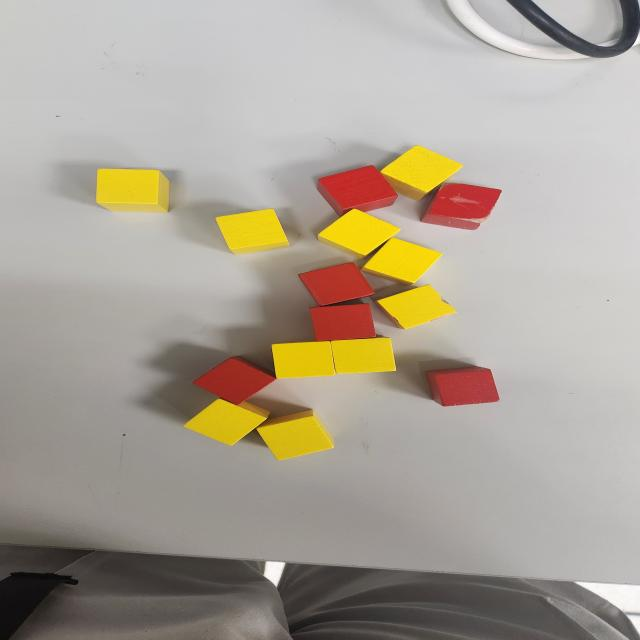broken: (420, 183, 503, 229), (377, 284, 456, 329)
red: (317, 165, 398, 216), (192, 356, 276, 404), (297, 262, 375, 305), (424, 367, 500, 406), (309, 303, 377, 341)
yellow: (380, 145, 463, 201), (182, 398, 271, 447), (316, 208, 401, 258), (256, 409, 335, 460), (360, 238, 444, 284), (214, 208, 291, 255), (94, 168, 170, 213), (330, 337, 398, 372), (270, 342, 336, 377)
